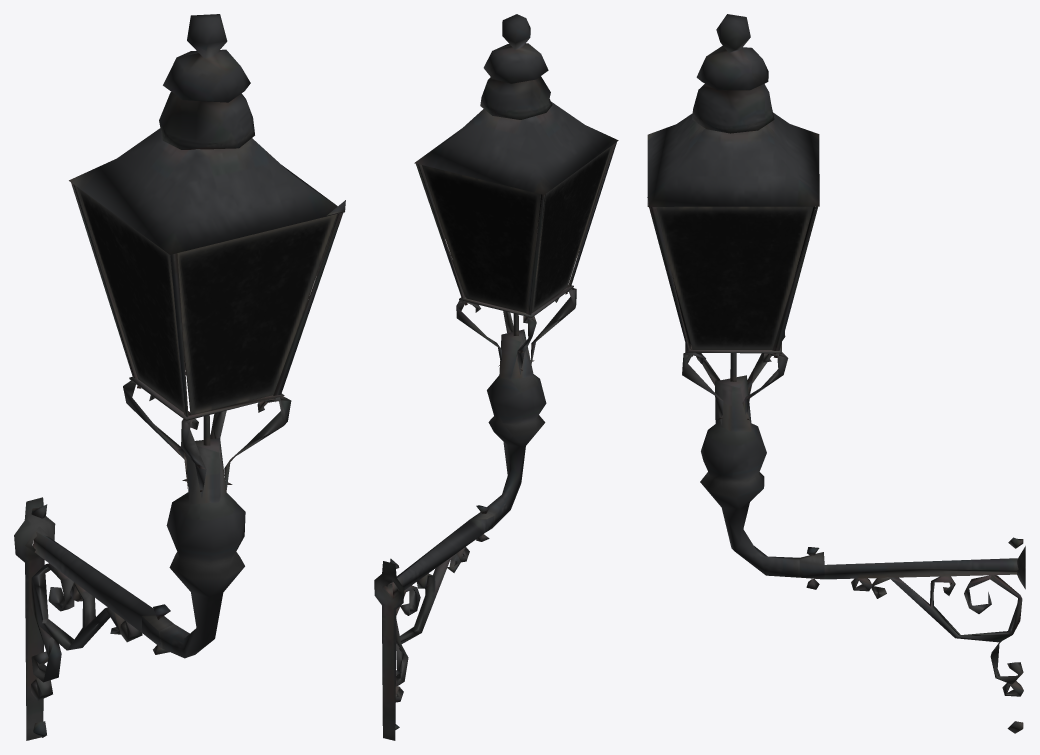
3 views of the same model, side by side, from view 1: azimuth 30°, elevation 25°; view 2: azimuth 150°, elevation 25°; view 3: azimuth 270°, elevation 25° (orthographic). The views are drawn at different scales.
Visible parts, largest first — view 1: street_lamp_02.001, street_lamp_02.002; view 2: street_lamp_02.001, street_lamp_02.002; view 3: street_lamp_02.001, street_lamp_02.002.
Part boxes in pixels (x1,y1,x2,y2): street_lamp_02.001: (14,14,345,740); street_lamp_02.002: (77,187,337,414); street_lamp_02.001: (374,14,618,740); street_lamp_02.002: (422,145,612,312); street_lamp_02.001: (647,14,1025,733); street_lamp_02.002: (656,206,815,349).
Bounding box in the file's own units: 0.3618 × 1.67 × 0.7946.
3 materials, 3 textured.
